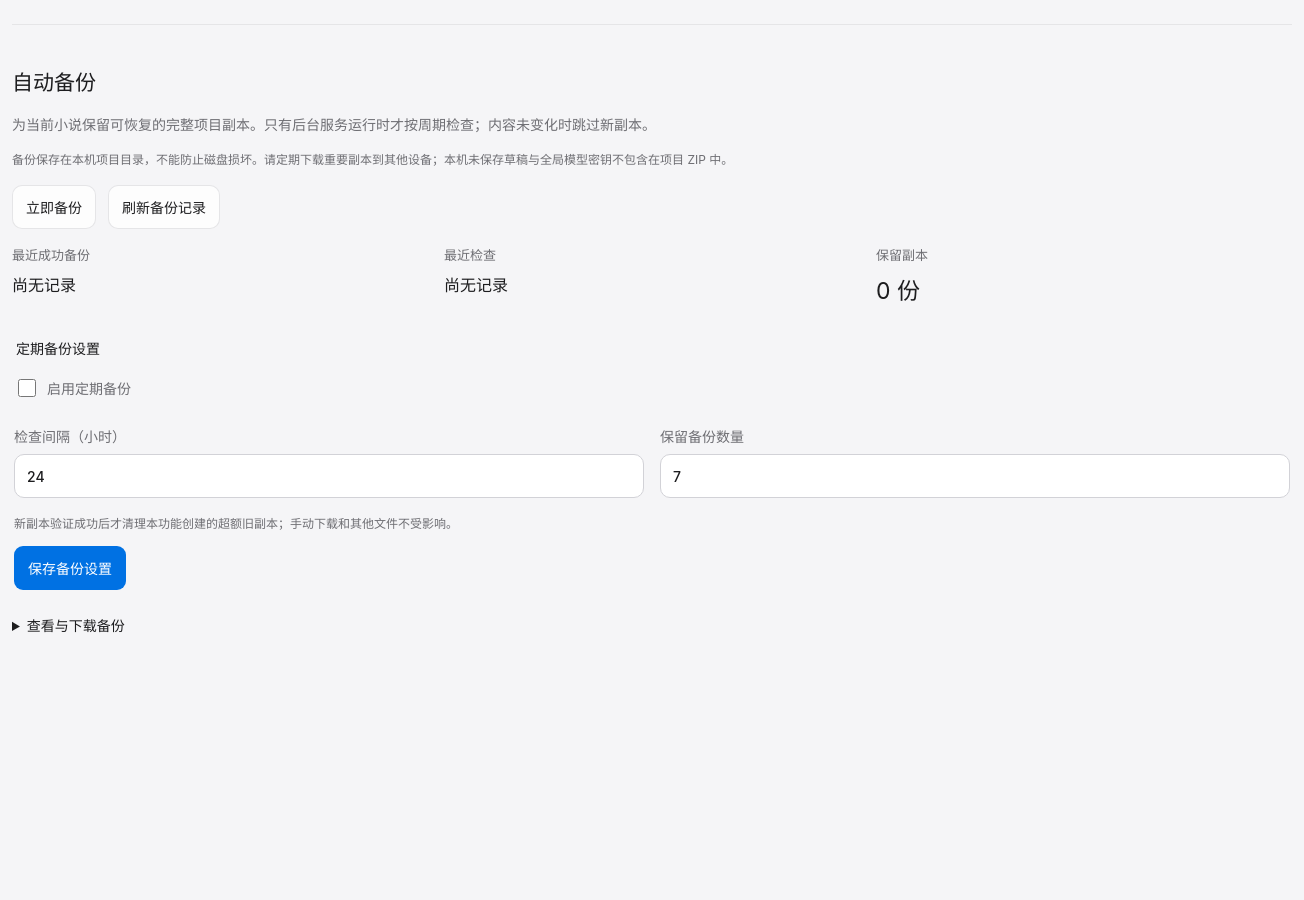
it: retains input and diagnostic evidence on conflict, and starts a snapshot only on click
Replace the text in the number field labelled "保留备份数量" with "3". click: point(975, 476)
box: 660,454 -> 1290,498
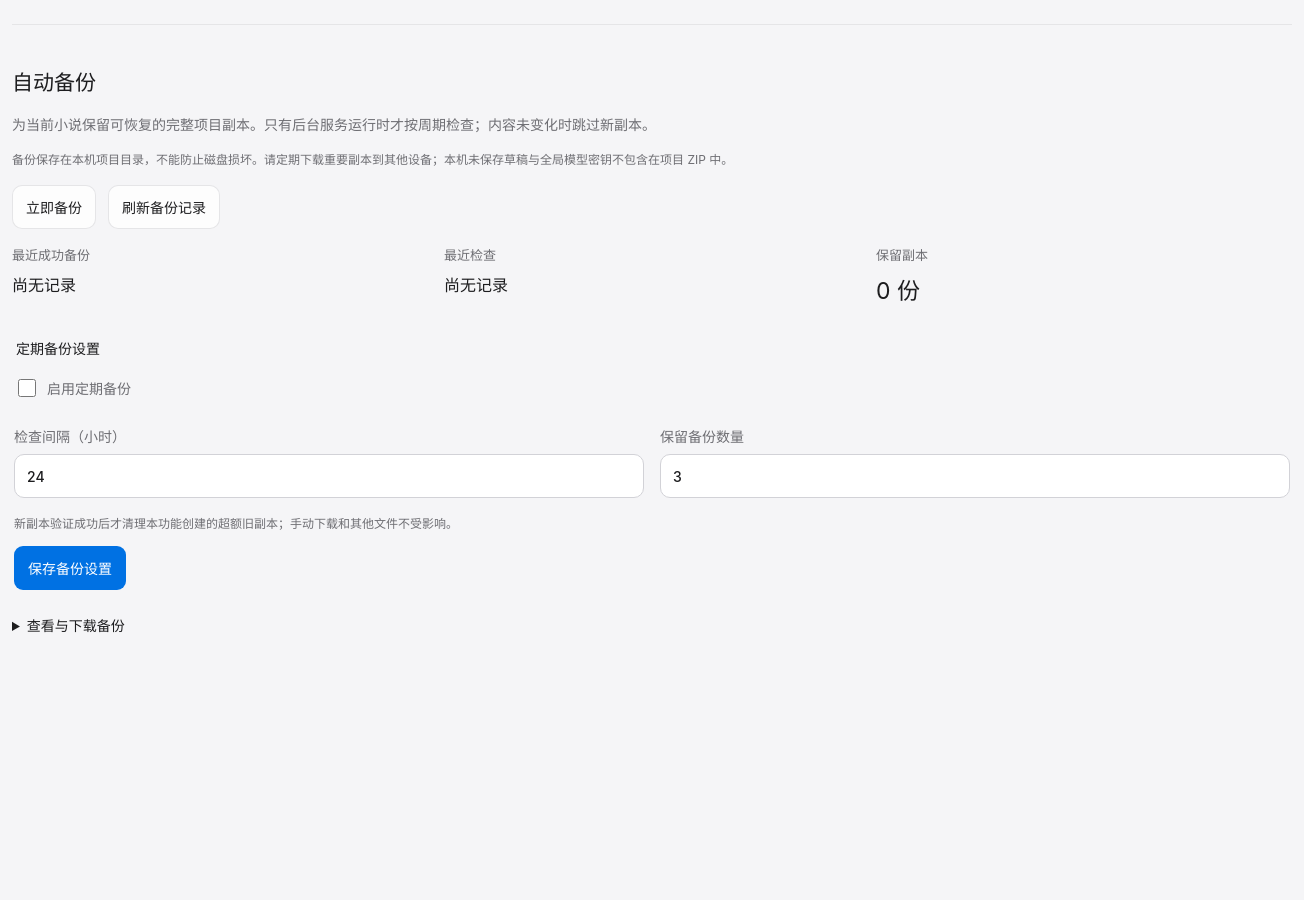
Click the button "保存备份设置". click: point(70, 568)
box: 14,546 -> 126,590
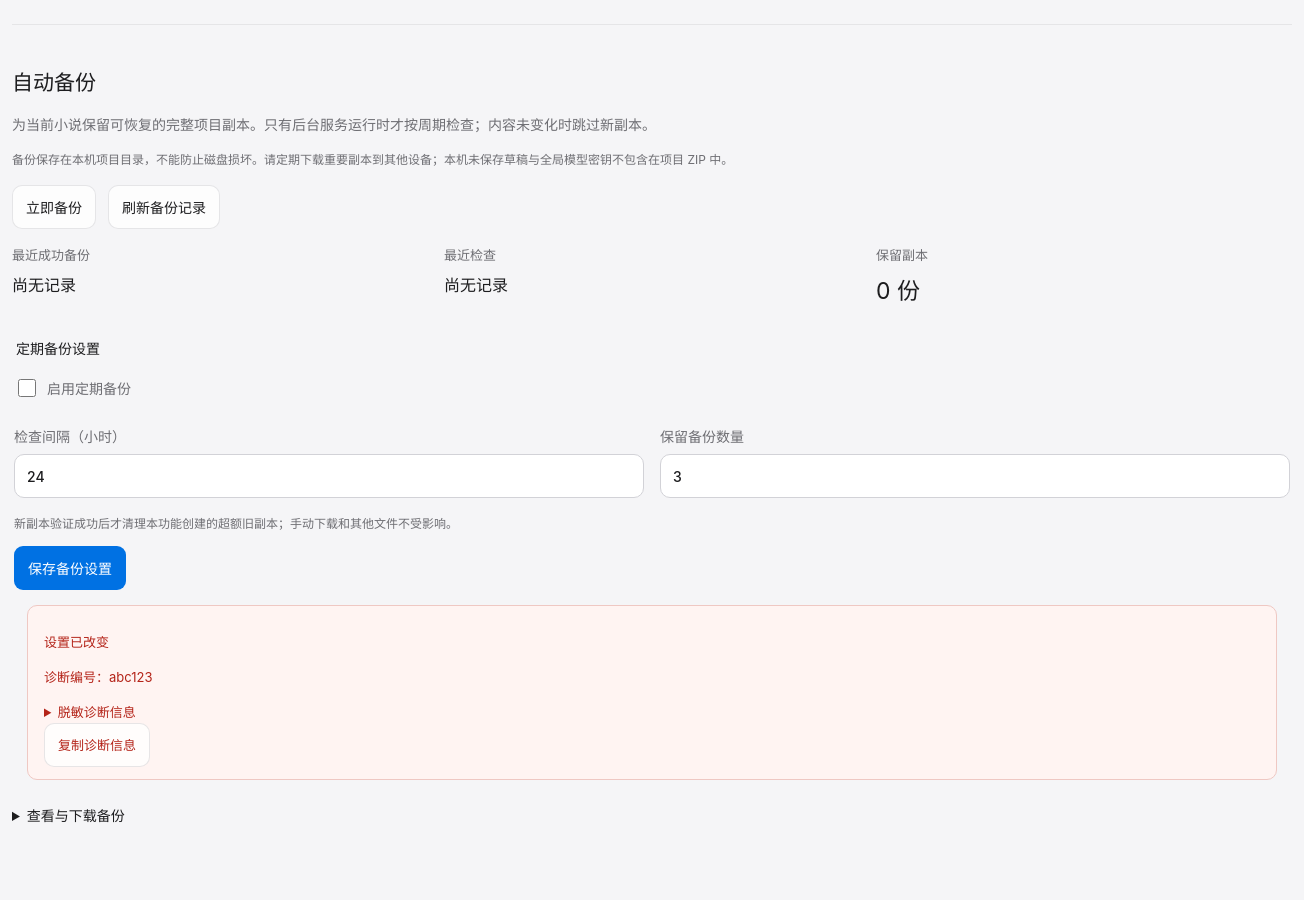
Expected: the text "设置已改变" is shown, 44,634 -> 109,650
Click the button "立即备份". click: point(54, 207)
box: 12,185 -> 96,229
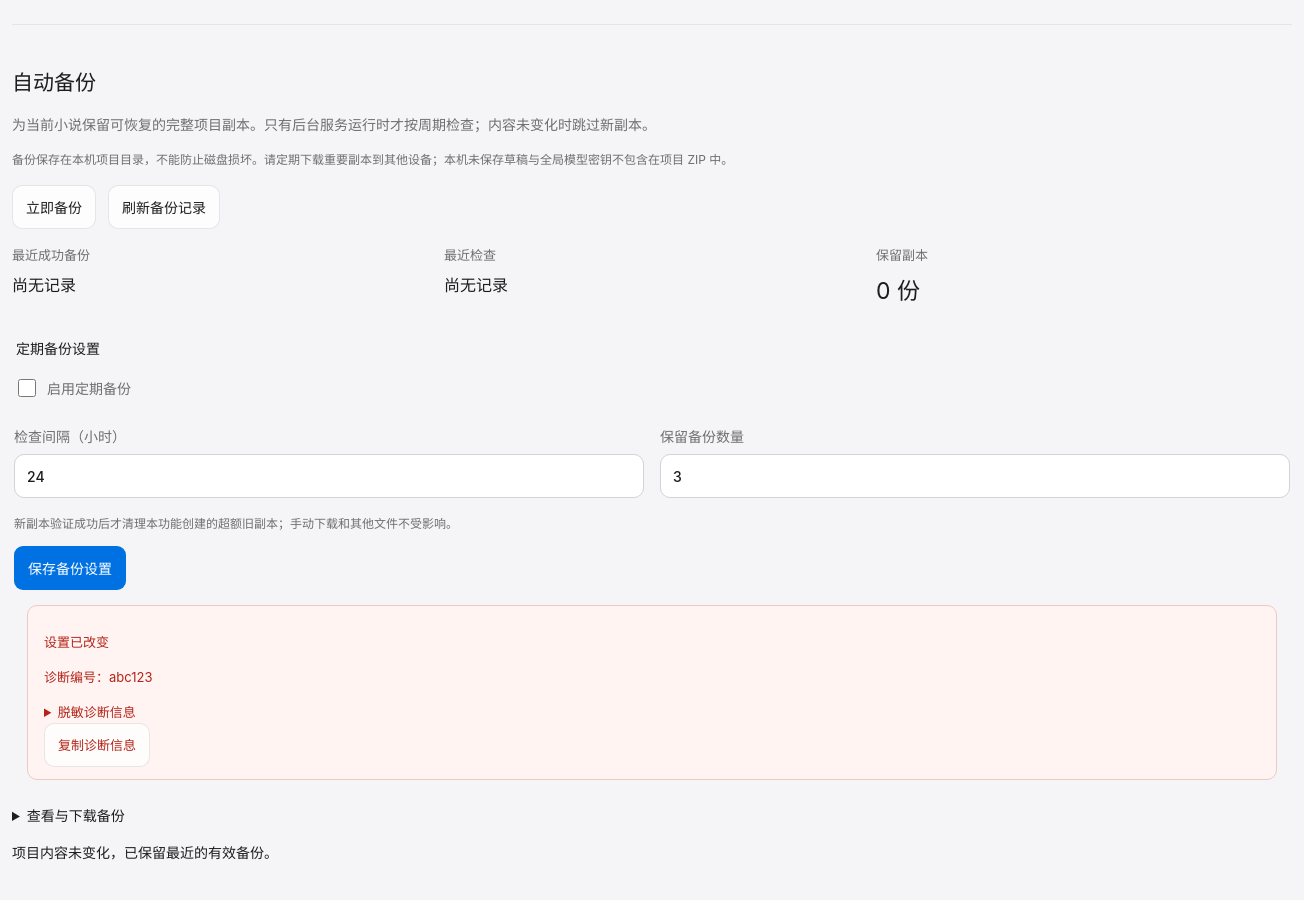
Expected: the text "项目内容未变化，已保留最近的有效备份。" is shown, 12,844 -> 278,861
